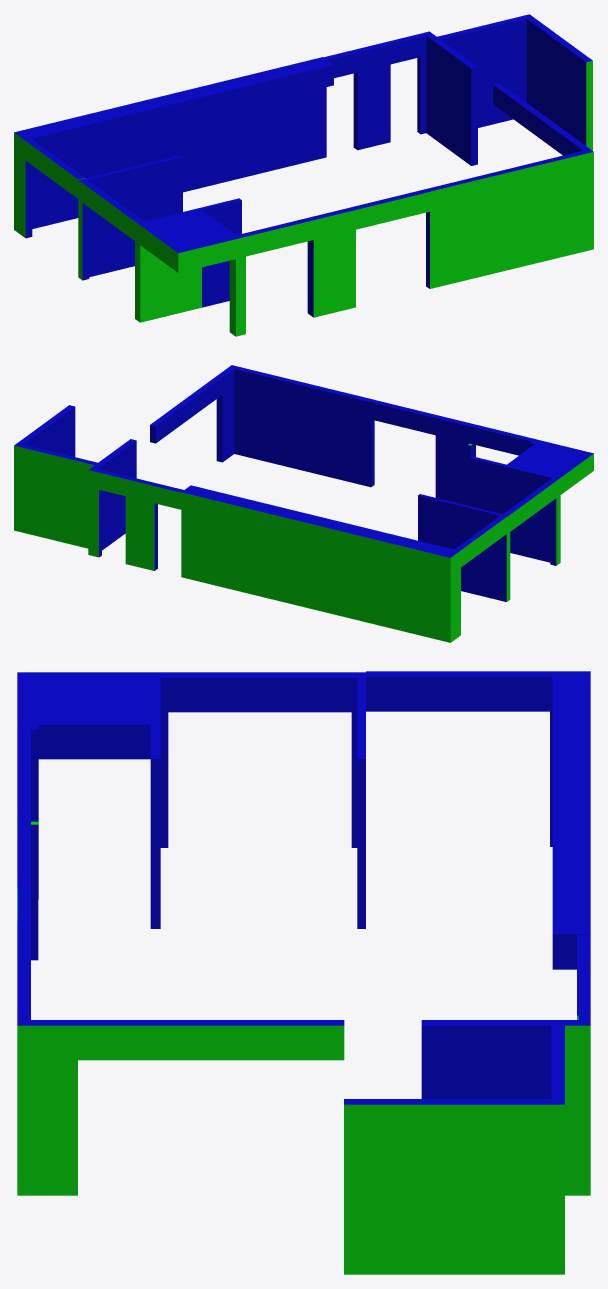
File: Wall3.fbx
3 views of the same model, one above another, from view 1: azimuth 30°, elevation 25°; view 2: azimuth 150°, elevation 25°; view 3: azimuth 270°, elevation 25° (orthographic). The views are drawn at different scales.
Parts seen in each view (by area): view 1: Wall5, Wall2, Wall3, Wall0, Wall6, Wall1, Wall4, Wall7; view 2: Wall5, Wall2, Wall3, Wall0, Wall6, Wall1, Wall4; view 3: Wall3, Wall2, Wall5, Wall0, Wall6, Wall1, Wall4, Wall7.
Boxes of the visible parts, x1,y1,x2,y2 form: Wall5: (14, 57, 333, 238); Wall2: (426, 83, 593, 288); Wall3: (417, 14, 592, 165); Wall0: (135, 198, 241, 322); Wall6: (78, 155, 182, 280); Wall1: (242, 189, 430, 317); Wall4: (324, 34, 421, 150); Wall7: (229, 232, 245, 336); Wall5: (181, 485, 506, 642); Wall2: (150, 365, 374, 487); Wall3: (14, 405, 136, 557); Wall0: (469, 440, 593, 565); Wall6: (418, 479, 556, 601); Wall1: (370, 400, 534, 505); Wall4: (98, 470, 183, 570); Wall3: (344, 1015, 590, 1274); Wall2: (17, 886, 344, 1195); Wall5: (366, 671, 590, 969); Wall0: (17, 672, 168, 928); Wall6: (168, 672, 365, 928); Wall1: (17, 729, 38, 960); Wall4: (577, 935, 590, 1019); Wall7: (17, 721, 38, 899).
Size of the model in its own units: 752 by 138 by 421.
